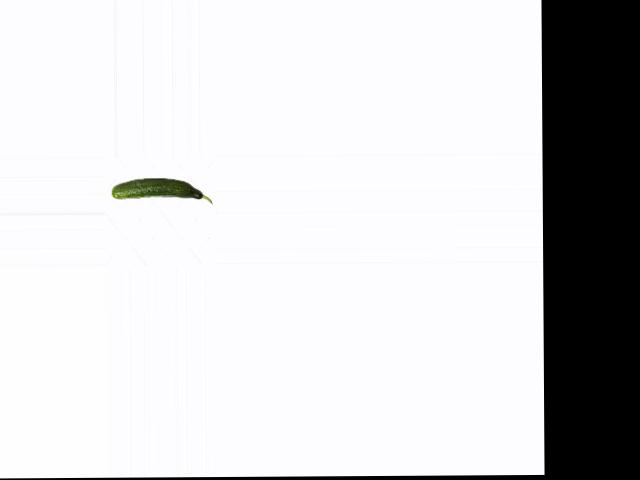cucumber: (112, 178, 213, 204)
